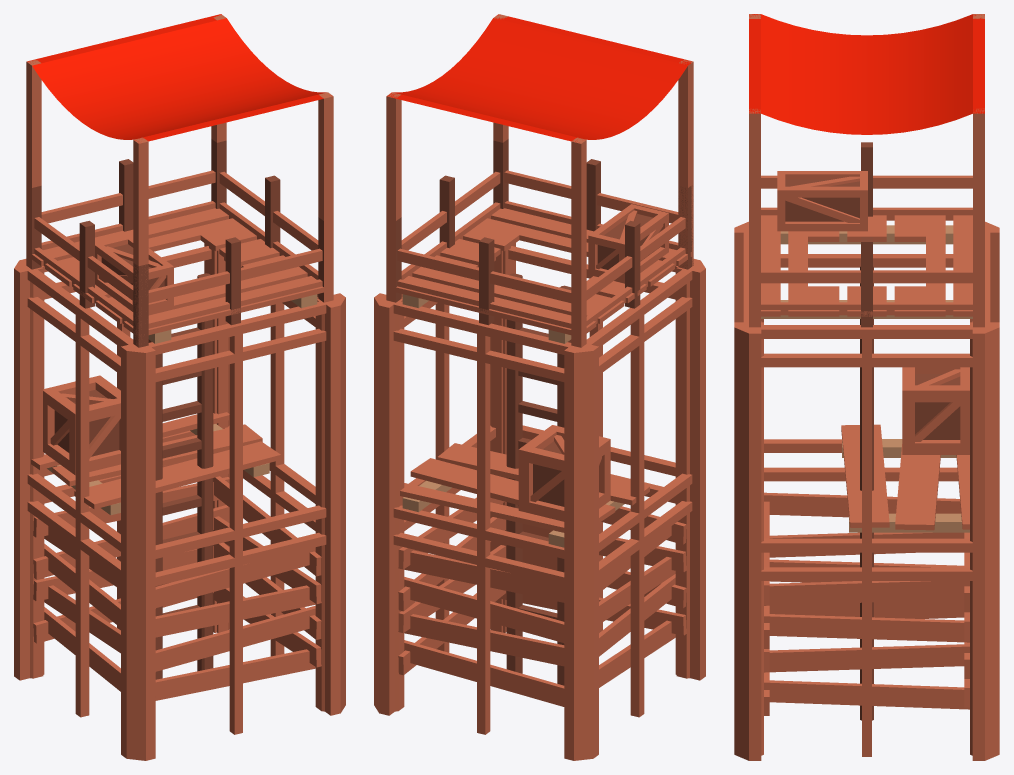
The model's file is Archer.fbx.
3 views of the same model, side by side, from view 1: azimuth 30°, elevation 25°; view 2: azimuth 150°, elevation 25°; view 3: azimuth 270°, elevation 25° (orthographic). The views are drawn at different scales.
Parts seen in each view (by area): view 1: mergedBlocks; view 2: mergedBlocks; view 3: mergedBlocks.
Part boxes in pixels (x1,y1,x2,y2): mergedBlocks: [14, 14, 345, 760]; mergedBlocks: [374, 14, 705, 760]; mergedBlocks: [734, 14, 999, 760].
Size of the model in its own units: 6.75 by 18 by 6.75.
